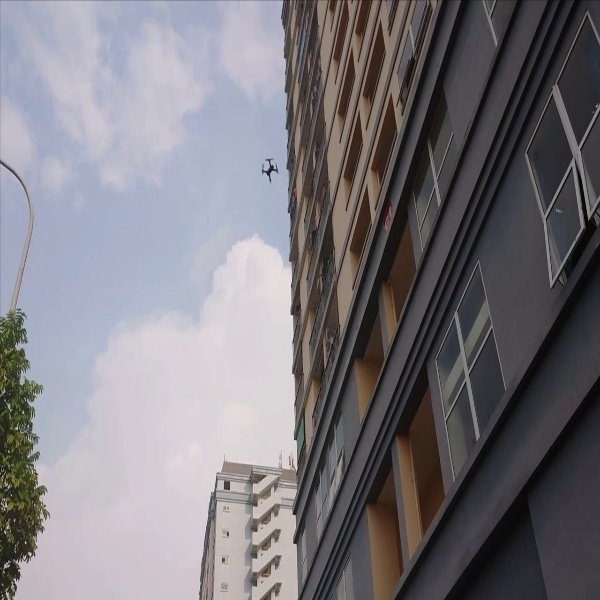drone: (253, 152, 286, 186)
